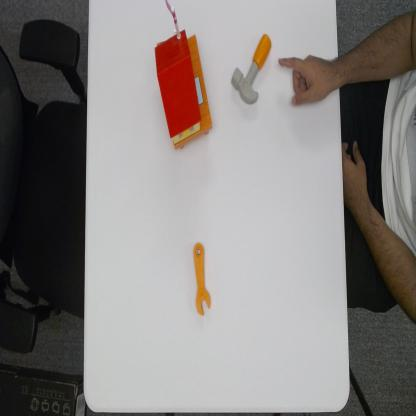Hammer: (230, 31, 273, 106)
Hand: (277, 48, 336, 107)
House: (153, 0, 214, 150)
Screwdriver: (191, 241, 212, 317)
